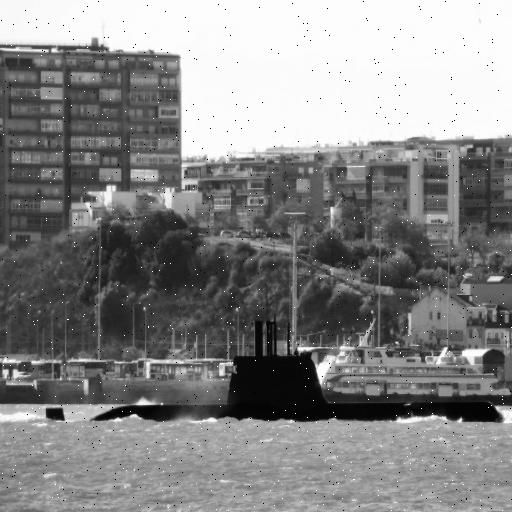submarine: (47, 319, 503, 422)
